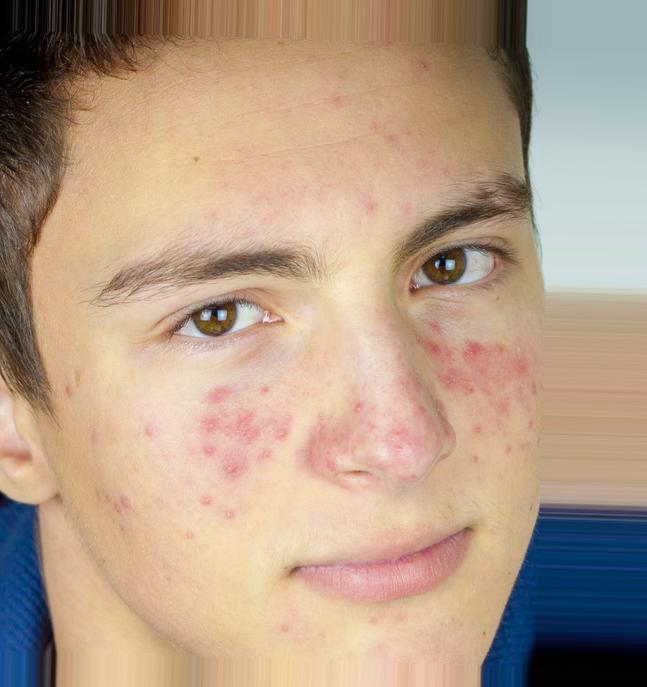Acne: (195, 385, 304, 493), (425, 322, 543, 412), (342, 399, 431, 469)
